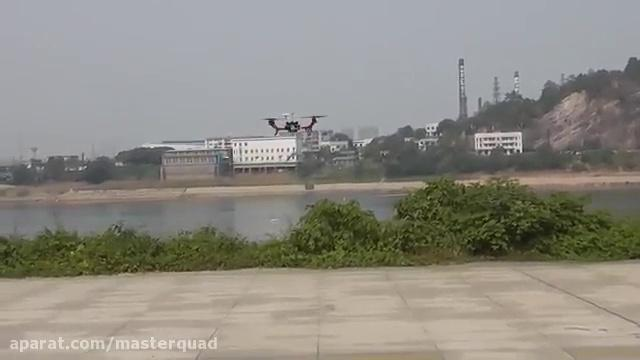drone: (258, 108, 328, 138)
